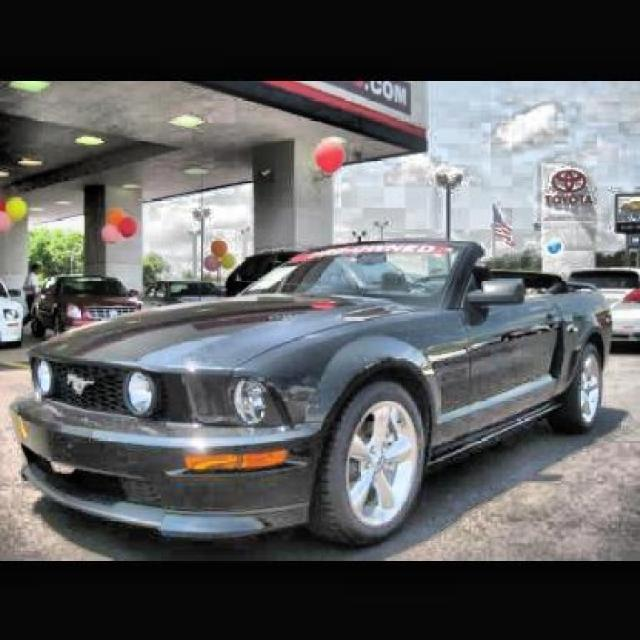black: (19, 245, 598, 504)
